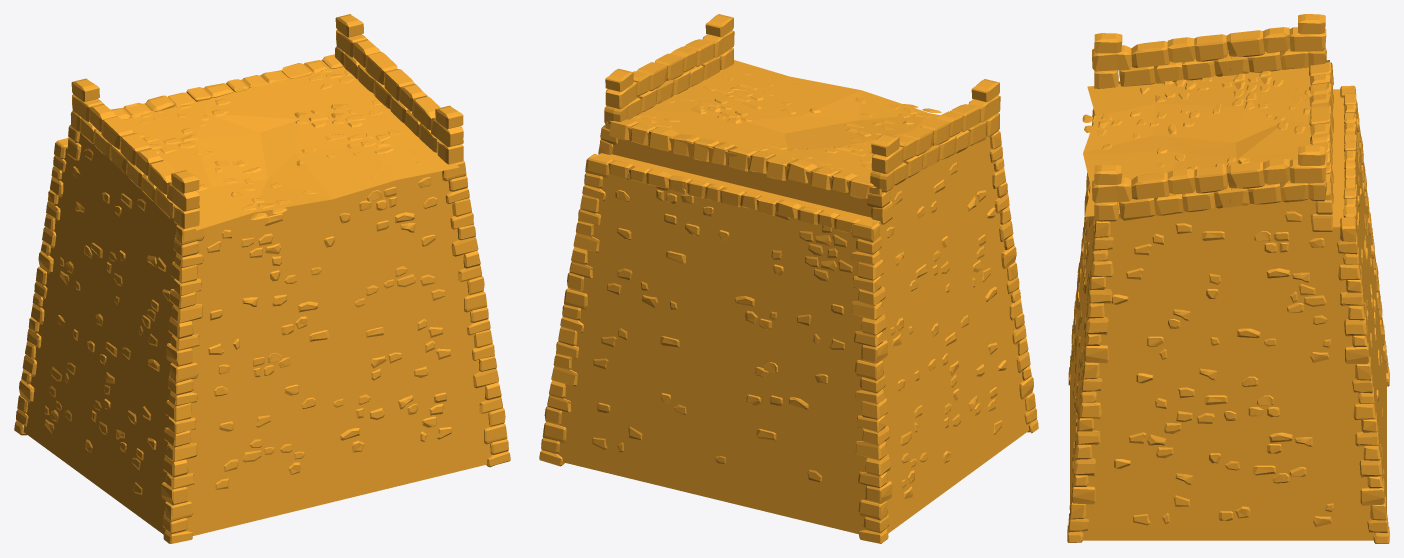
Rendered from SM_Bridge_Covered_Front_Pillar.fbx.
The picture shows the model from 3 angles, left to right: view 1: azimuth 30°, elevation 25°; view 2: azimuth 150°, elevation 25°; view 3: azimuth 270°, elevation 25°; orthographic projection. The views are drawn at different scales.
Parts seen in each view (by area): view 1: bridge-covered-front-pillar; view 2: bridge-covered-front-pillar; view 3: bridge-covered-front-pillar.
Part boxes in pixels (<box>): bridge-covered-front-pillar: <box>14,14,510,543</box>; bridge-covered-front-pillar: <box>539,14,1038,543</box>; bridge-covered-front-pillar: <box>1067,14,1389,543</box>.
Bounding box in the file's own units: 8.74 × 9.02 × 7.
